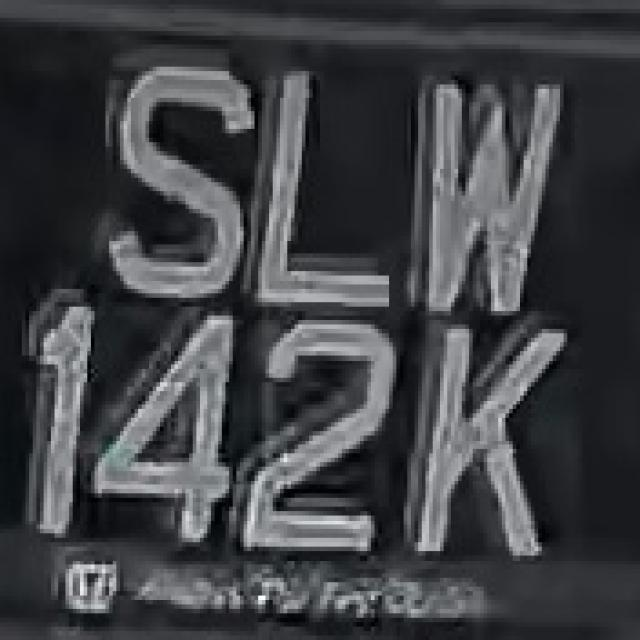1: (18, 289, 98, 573)
2: (240, 298, 400, 578)
4: (95, 289, 258, 555)
K: (397, 306, 568, 564)
L: (254, 44, 396, 320)
S: (102, 31, 254, 302)
W: (400, 54, 556, 316)
